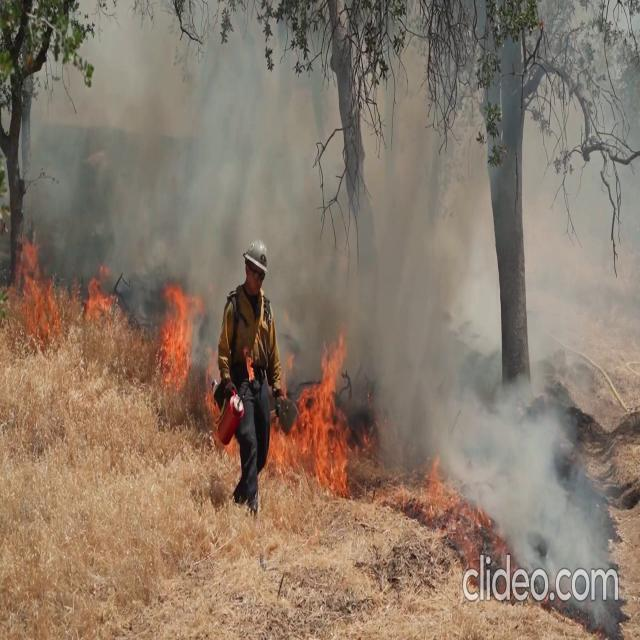Fire: (268, 331, 362, 489), (3, 235, 122, 338), (156, 276, 200, 391), (84, 265, 120, 323)
Smoke: (9, 24, 632, 318), (362, 39, 624, 592)
